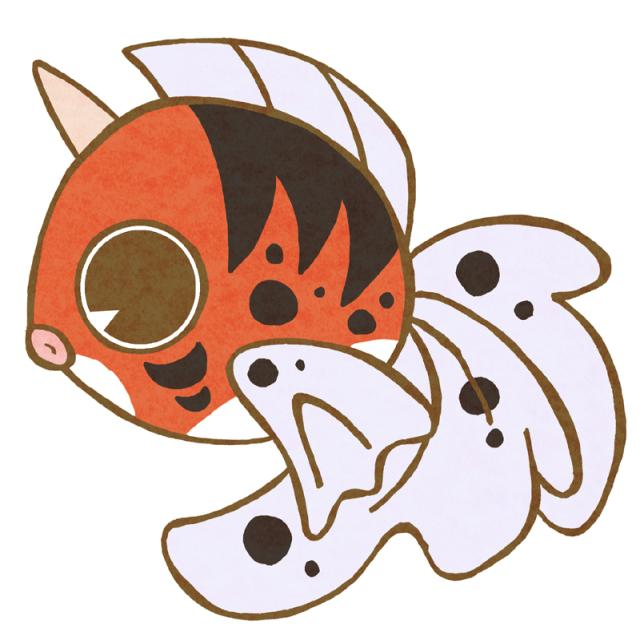Seaking: (23, 33, 515, 534)
